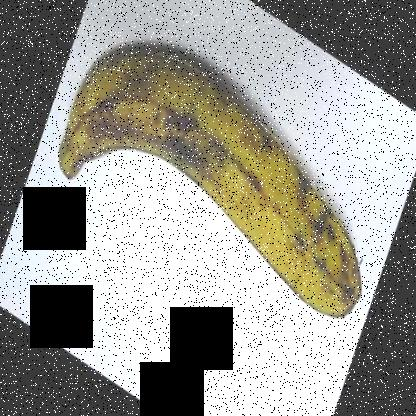overripe: (49, 35, 374, 327)
